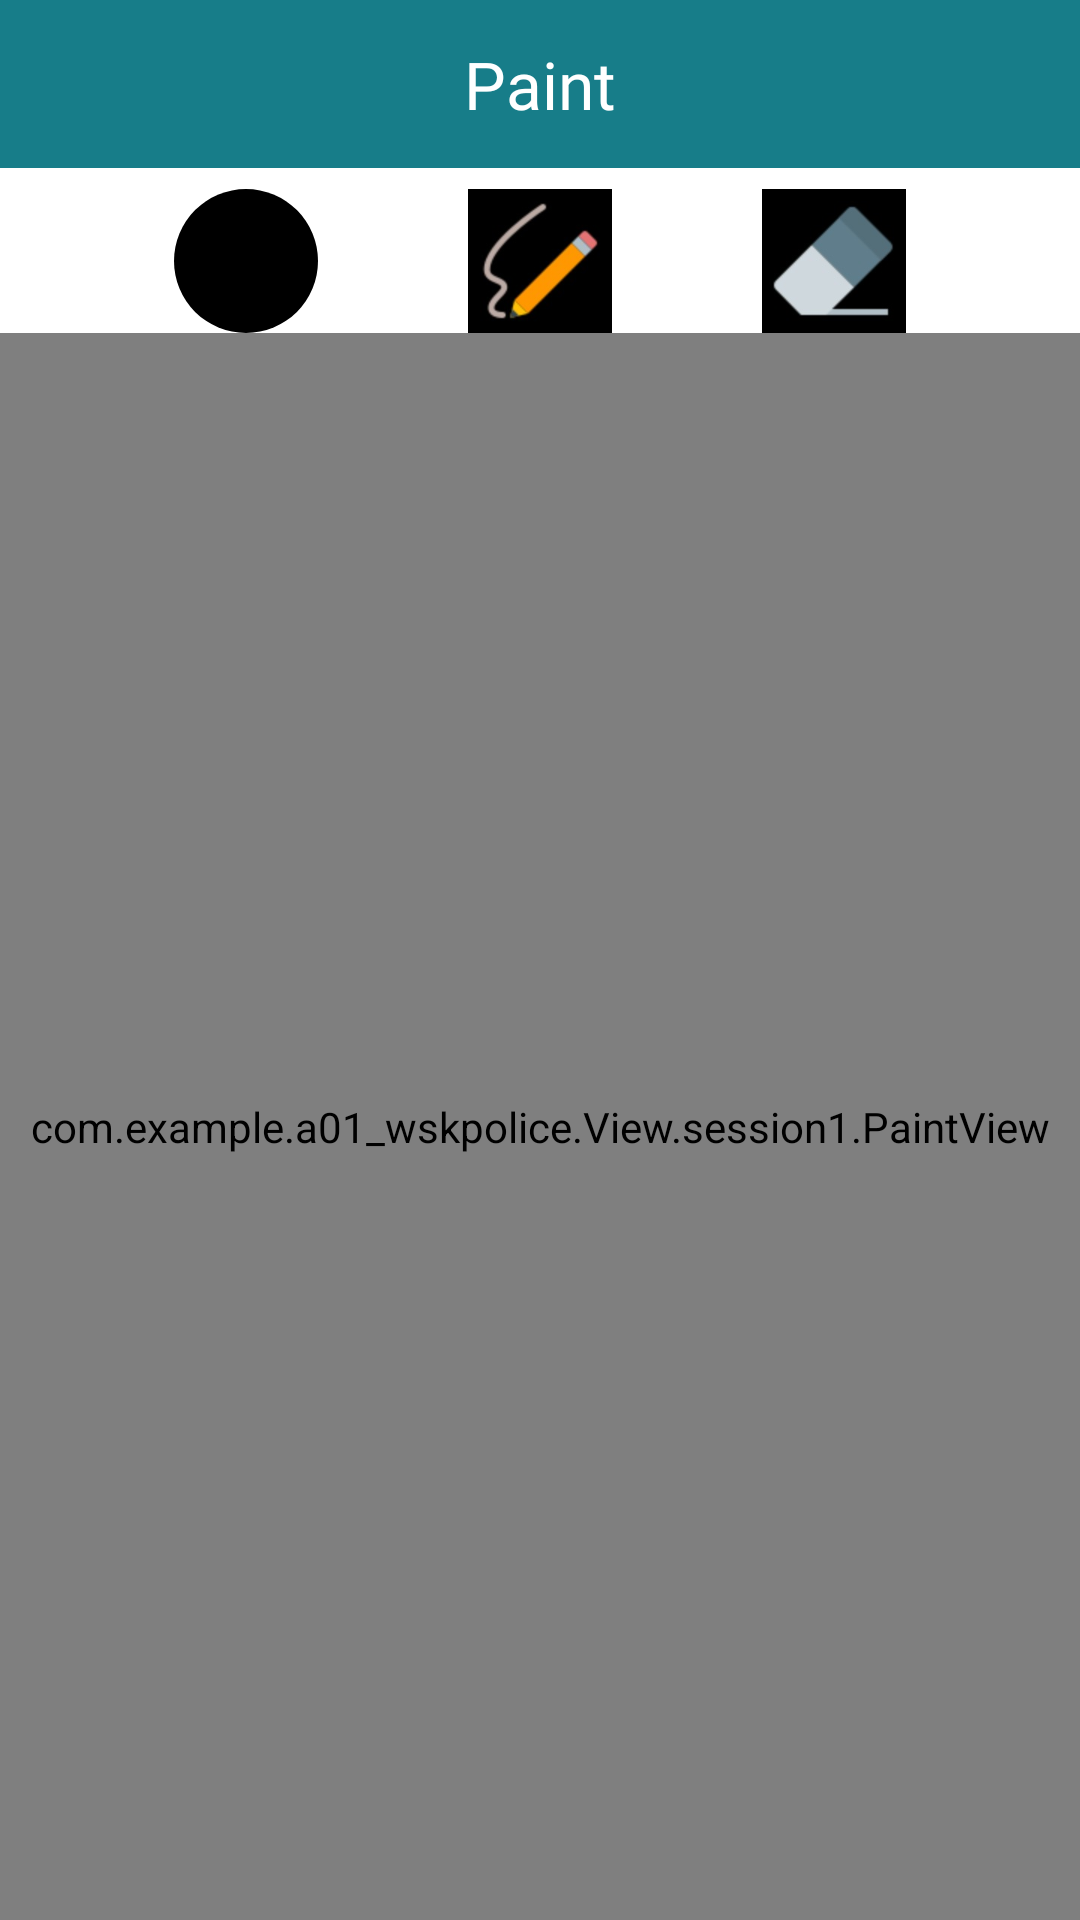

Where icons sit on this 1080x1920 app screen, as (x1, y1, x2, y2):
pencil: (468, 189, 612, 333)
sterka: (762, 189, 906, 333)
